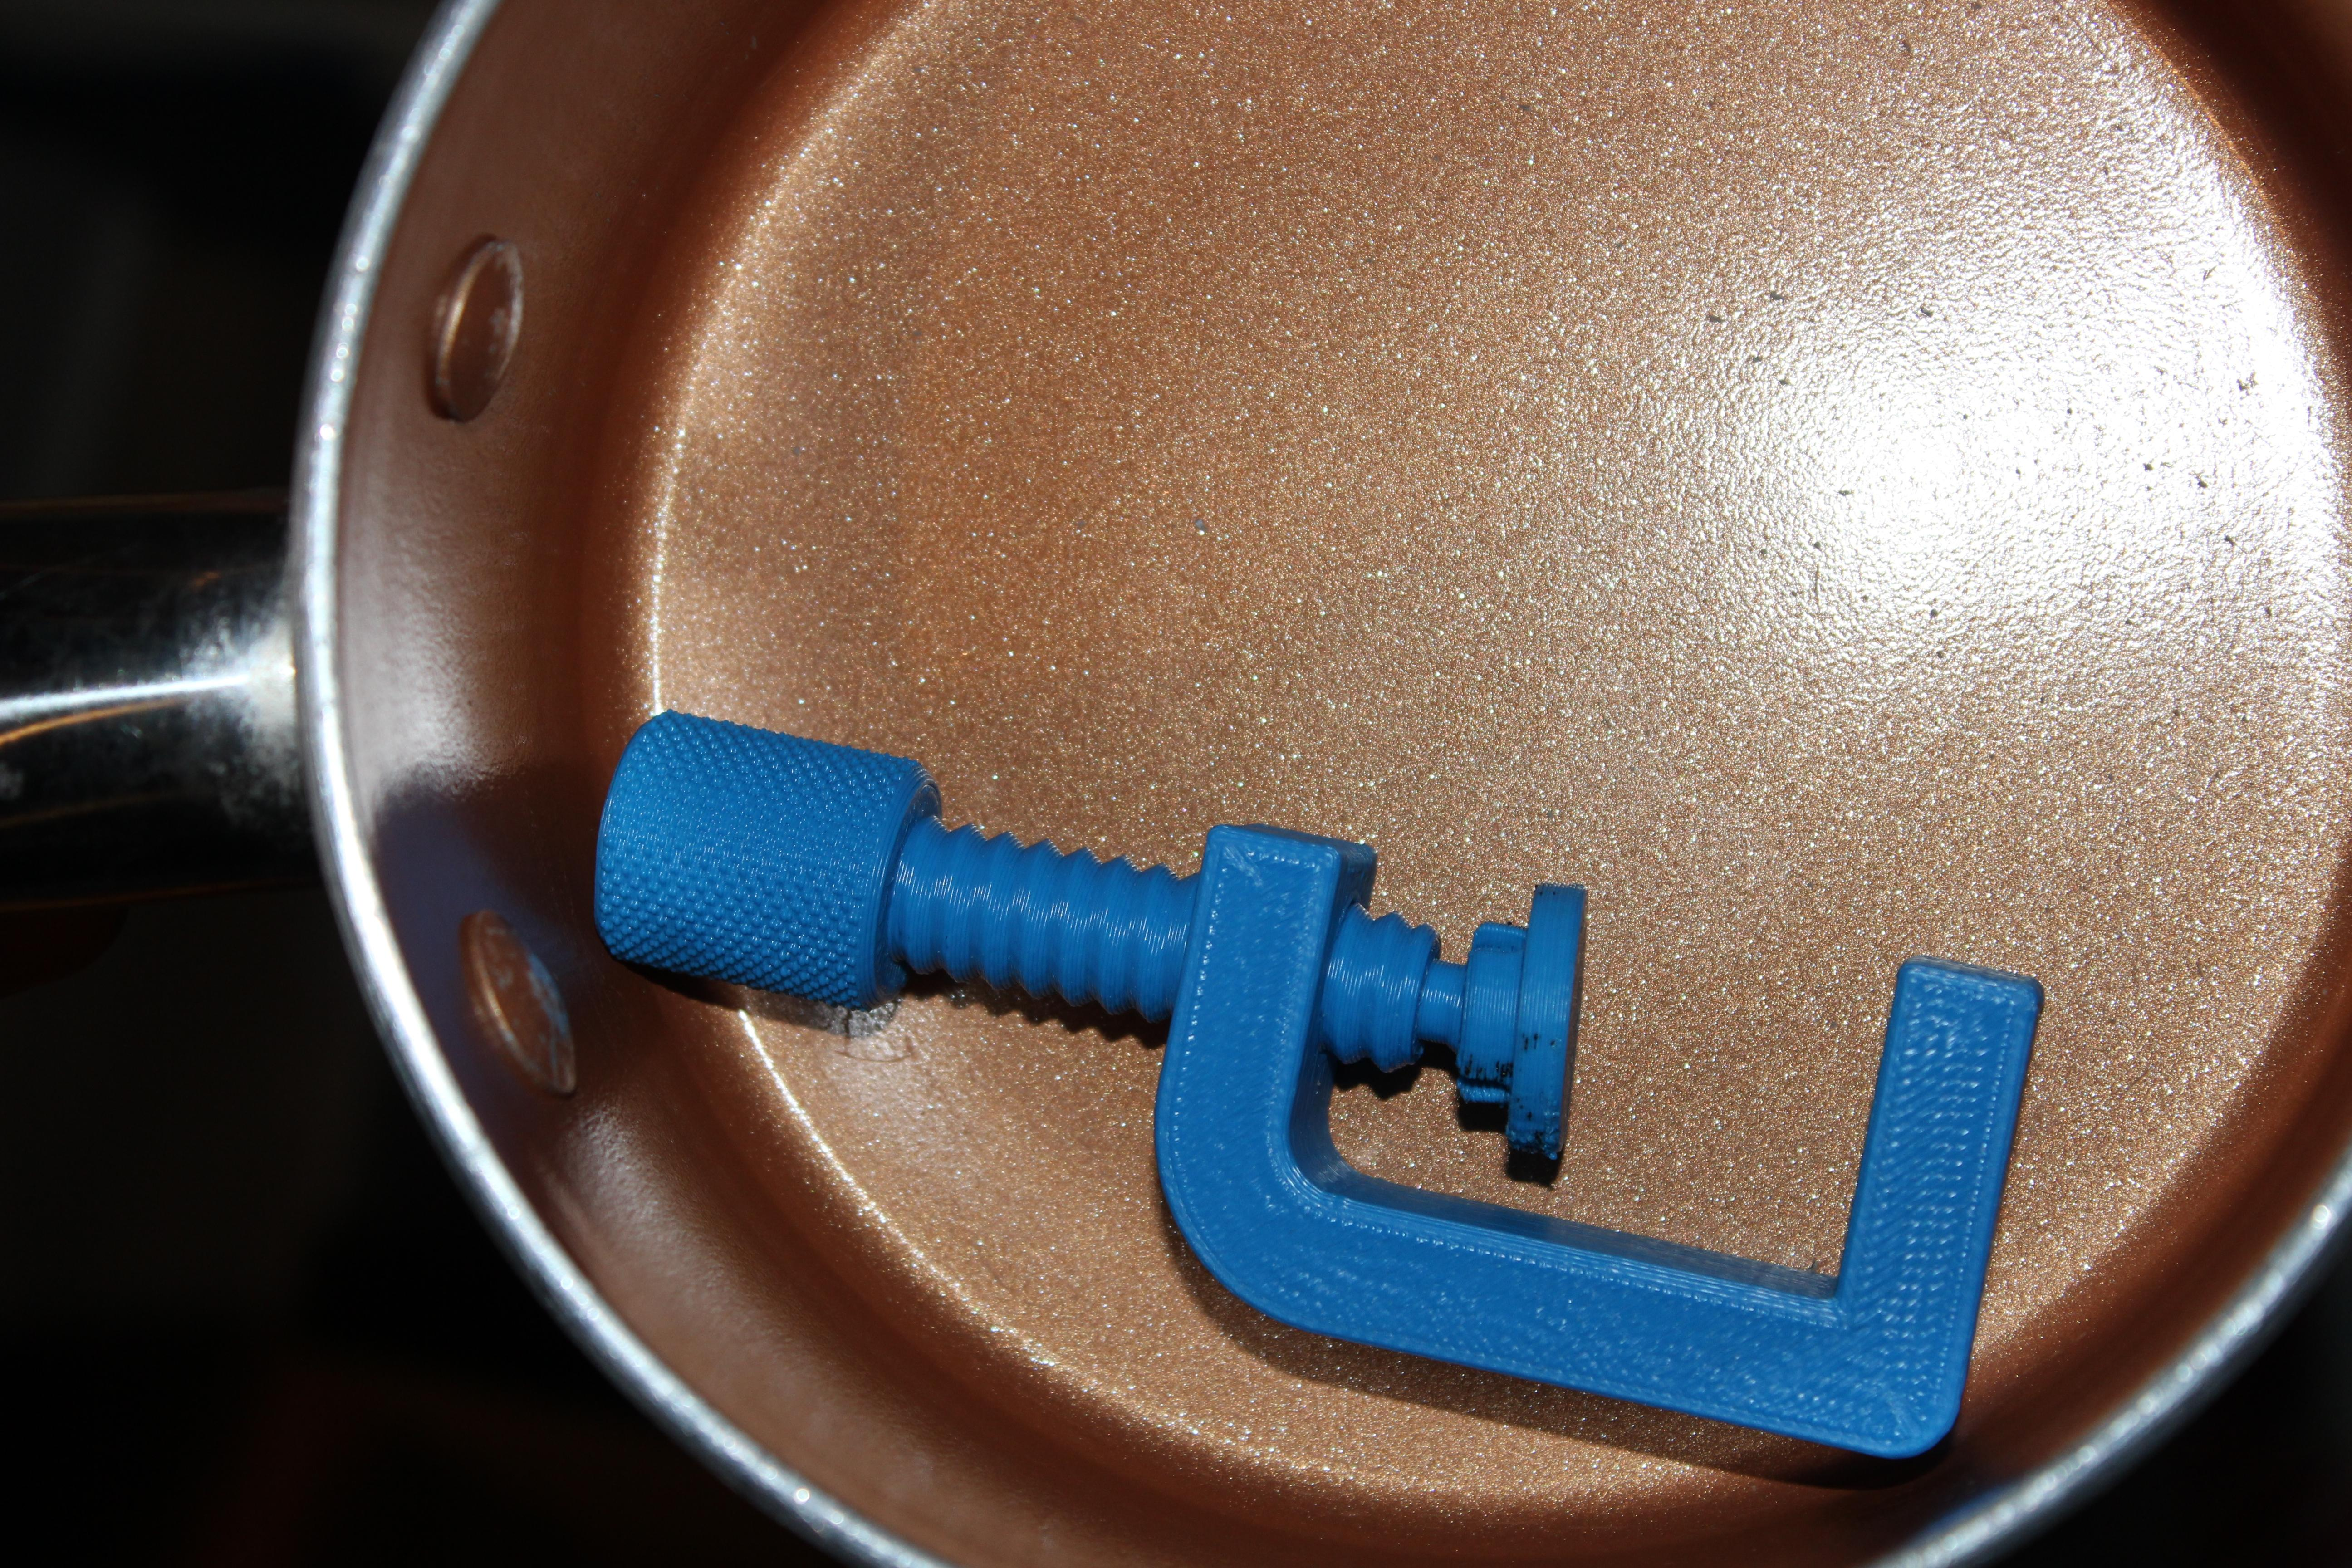gClamp: (535, 682, 2056, 1515)
